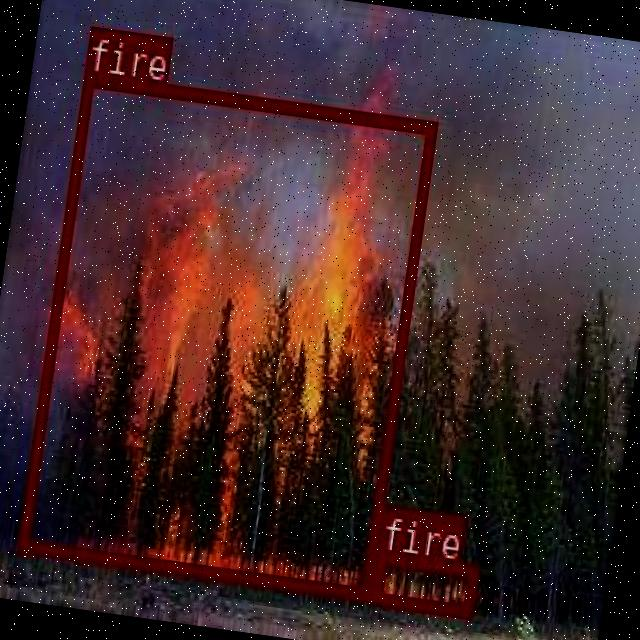fire: (17, 70, 436, 599), (370, 551, 476, 616)
